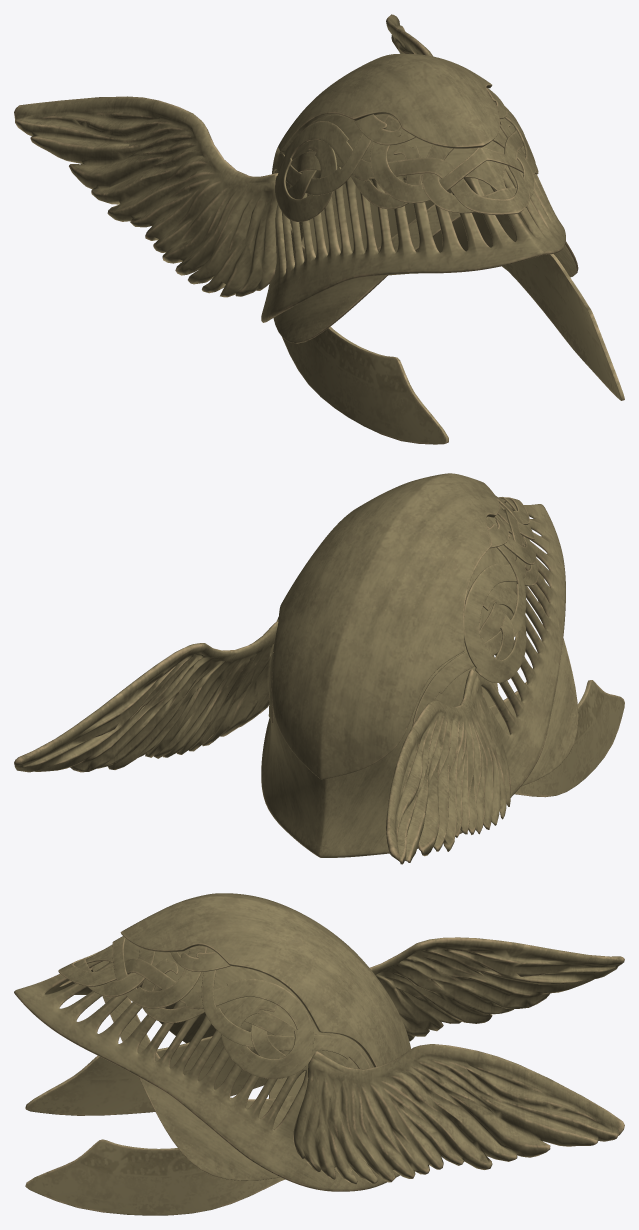
The model's file is winged-helmet.glb.
3 views of the same model, one above another, from view 1: azimuth 30°, elevation 25°; view 2: azimuth 150°, elevation 25°; view 3: azimuth 270°, elevation 25° (orthographic). The views are drawn at different scales.
Visible parts, largest first — view 1: helmet; view 2: helmet; view 3: helmet.
Boxes of the visible parts, x1=… form: helmet: x1=14, y1=14, x2=624, y2=444; helmet: x1=14, y1=473, x2=624, y2=864; helmet: x1=14, y1=893, x2=624, y2=1215.
Bounding box in the file's own units: 1.7 × 1.24 × 2.56.
Materials: 1 (1 with a texture image).
